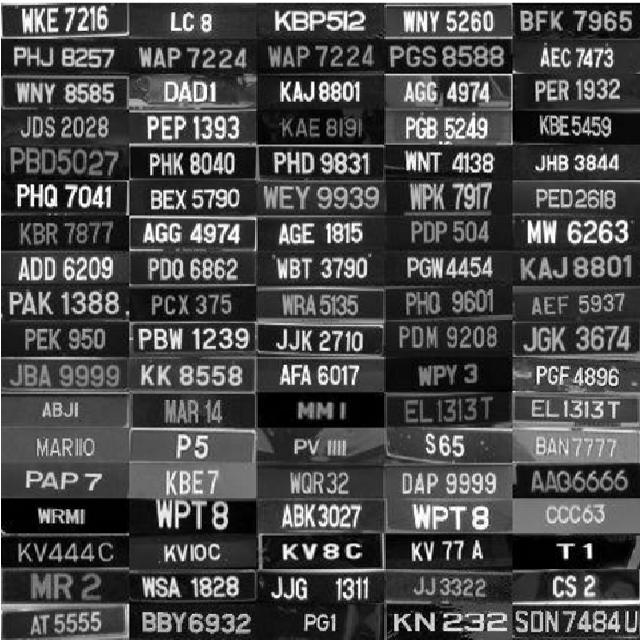car-plate: (0, 245, 132, 291), (258, 389, 386, 432), (124, 602, 263, 640), (2, 176, 130, 216), (125, 75, 257, 113), (251, 464, 386, 501), (381, 531, 516, 568), (133, 496, 257, 536), (386, 393, 510, 433), (514, 246, 638, 286), (0, 390, 130, 428), (257, 1, 387, 39), (3, 319, 126, 359), (129, 390, 252, 430), (512, 320, 634, 360), (514, 392, 639, 431), (259, 530, 380, 570), (389, 566, 516, 604), (128, 4, 258, 41), (0, 464, 132, 500), (136, 352, 254, 392), (1, 501, 132, 537), (130, 285, 254, 323), (514, 38, 638, 76), (134, 536, 264, 572), (391, 1, 514, 39), (258, 250, 387, 286), (390, 248, 506, 288), (389, 38, 511, 76), (385, 432, 517, 467), (258, 180, 386, 216), (133, 180, 257, 217), (255, 499, 386, 534), (264, 568, 384, 606), (517, 462, 640, 499), (260, 287, 386, 323), (510, 74, 636, 110), (512, 602, 638, 638), (258, 109, 387, 144), (134, 320, 256, 357), (259, 322, 384, 358), (121, 41, 257, 74), (390, 107, 510, 144), (1, 568, 124, 604), (130, 217, 260, 251), (2, 72, 124, 108), (517, 534, 639, 570), (124, 110, 257, 143), (392, 602, 507, 640), (384, 74, 512, 108), (0, 427, 124, 462), (260, 215, 384, 250), (129, 572, 264, 604), (389, 468, 516, 502), (391, 180, 504, 218), (258, 143, 388, 176), (510, 358, 640, 391), (127, 146, 261, 178), (3, 76, 122, 112), (7, 605, 132, 639), (388, 321, 502, 358), (514, 5, 638, 39), (263, 605, 382, 640), (258, 74, 384, 107), (0, 288, 129, 320), (259, 41, 388, 73), (2, 147, 126, 180), (386, 359, 510, 392), (517, 501, 640, 534), (260, 432, 386, 464), (0, 360, 134, 390), (129, 429, 254, 461), (260, 358, 384, 390), (516, 113, 640, 145), (4, 537, 129, 568), (0, 217, 129, 247), (136, 466, 256, 498), (517, 146, 637, 178), (390, 286, 502, 320), (7, 40, 122, 73), (514, 182, 640, 212), (136, 254, 259, 284), (391, 502, 514, 532), (517, 432, 640, 462), (7, 3, 126, 34), (15, 109, 120, 144), (391, 148, 512, 178), (507, 290, 634, 318), (520, 572, 638, 602), (515, 219, 640, 247), (392, 217, 504, 248)
